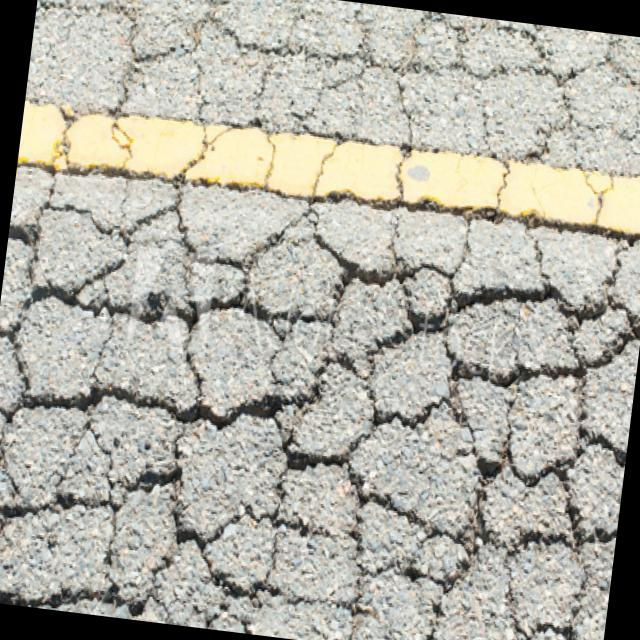Potholes: (0, 62, 639, 601)
